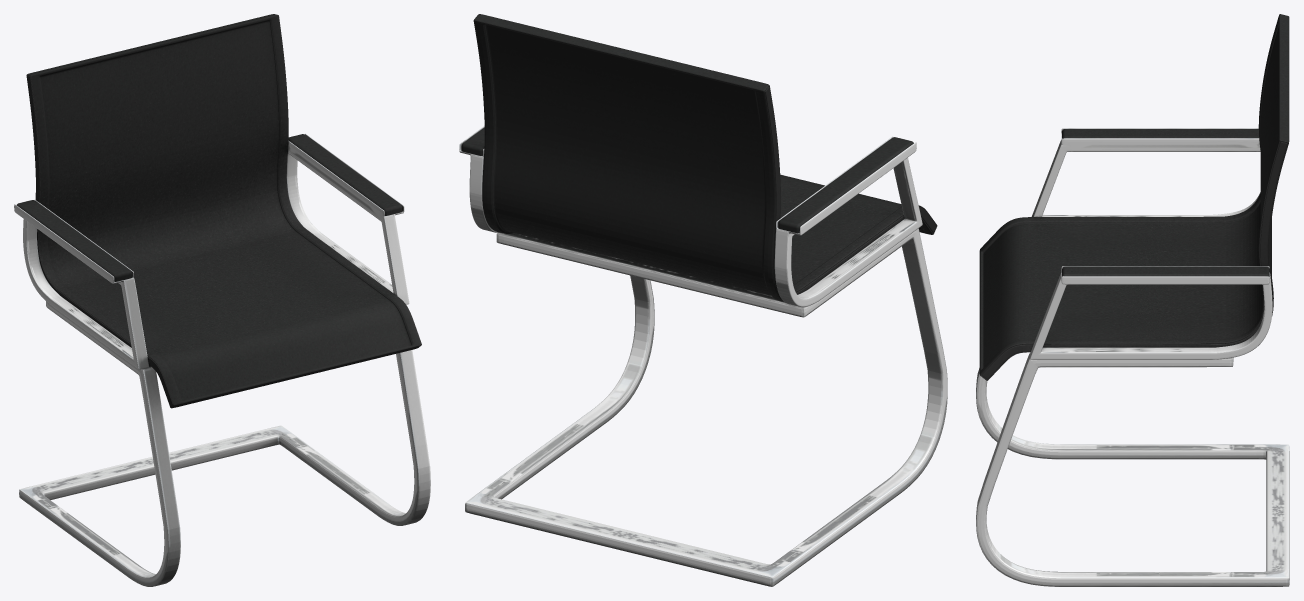
File: baiana-black.DAE
The picture shows the model from 3 angles, left to right: view 1: azimuth 30°, elevation 25°; view 2: azimuth 150°, elevation 25°; view 3: azimuth 270°, elevation 25°; orthographic projection. The views are drawn at different scales.
Parts seen in each view (by area): view 1: baiana-black; view 2: baiana-black; view 3: baiana-black.
Boxes of the visible parts, <box> form: baiana-black: <box>14,14,430,586</box>; baiana-black: <box>459,14,947,586</box>; baiana-black: <box>976,14,1289,586</box>.
Bounding box in the file's own units: 662 × 591 × 922.
